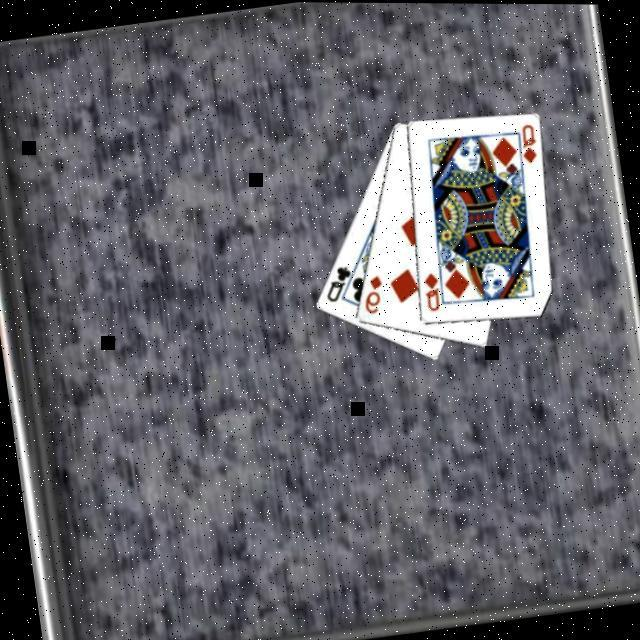6D: (355, 271, 387, 316)
QC: (318, 262, 355, 306)
QD: (417, 268, 443, 314), (513, 120, 539, 166)
